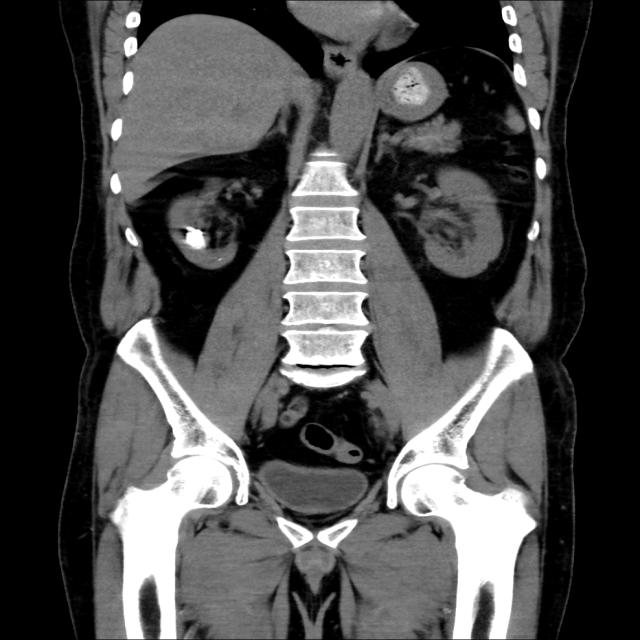kidneystone: (185, 226, 206, 249)
